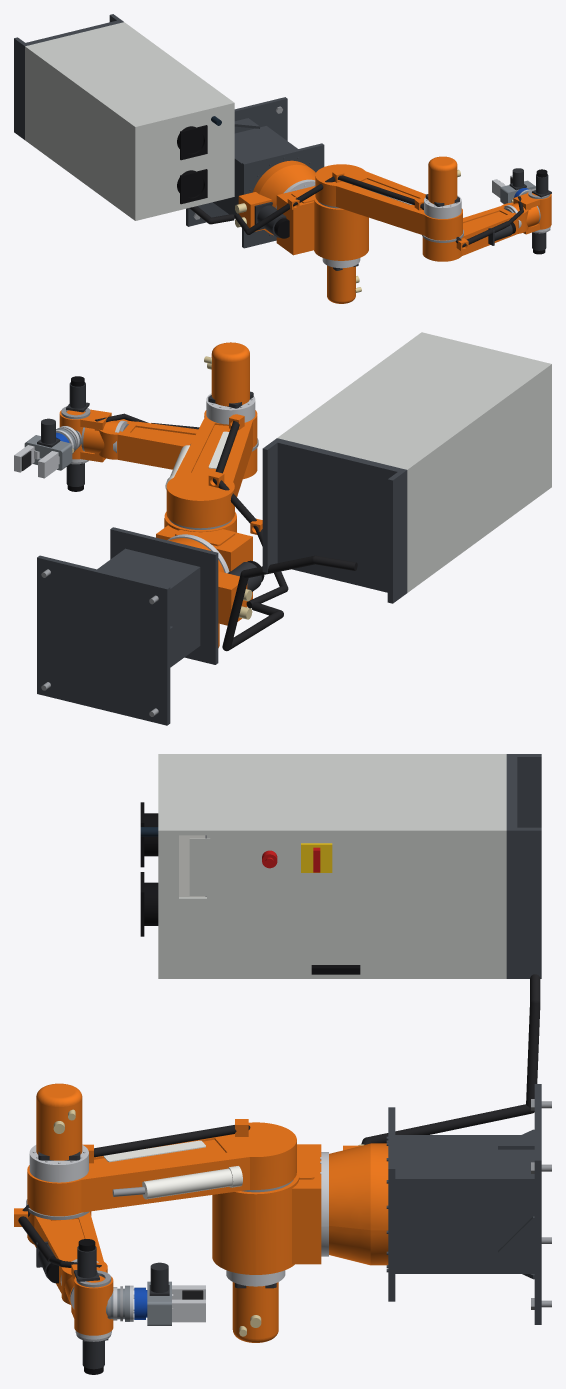
The model's file is robot-arm-6ax.glb.
The picture shows the model from 3 angles, top to bottom: view 1: azimuth 30°, elevation 25°; view 2: azimuth 150°, elevation 25°; view 3: azimuth 270°, elevation 25°; orthographic projection. The views are drawn at different scales.
Parts seen in each view (by area): view 1: Cabinet Enclosure, Lower Arm Casting, J1 Turret Casting, Upper Arm Casting, Pedestal Column Body 1, Pedestal Top Plate, J1 Base Housing, Pedestal Base Plate, Arm Harness Bundle, Cabinet Plinth, J3 Motor Cover, J2 Motor Cover (+5 smaller); view 2: Cabinet Enclosure, Pedestal Base Plate, Cabinet Plinth, Lower Arm Casting, Pedestal Column Body 1, Pedestal Top Plate, Upper Arm Casting, Umbilical Cable, J3 Motor Cover, J1 Turret Casting, Arm Harness Bundle, J1 Base Housing (+6 smaller); view 3: Cabinet Door, Cabinet Enclosure, Pedestal Column Body 1, Lower Arm Casting, J1 Turret Casting, Cabinet Plinth, J1 Base Housing, J3 Motor Cover, Umbilical Cable, Upper Arm Casting, J2 Motor Cover, J5 Pitch Housing (+14 smaller).
Part boxes in pixels (bbox=[...]): Cabinet Enclosure: bbox=[25, 22, 234, 220]; Lower Arm Casting: bbox=[315, 164, 462, 240]; J1 Turret Casting: bbox=[276, 186, 368, 260]; Upper Arm Casting: bbox=[422, 202, 528, 261]; Pedestal Column Body 1: bbox=[213, 126, 297, 218]; Pedestal Top Plate: bbox=[242, 143, 324, 248]; J1 Base Housing: bbox=[238, 160, 315, 235]; Pedestal Base Plate: bbox=[186, 97, 287, 226]; Arm Harness Bundle: bbox=[234, 175, 510, 247]; Cabinet Plinth: bbox=[14, 14, 123, 139]; J3 Motor Cover: bbox=[428, 156, 457, 205]; J2 Motor Cover: bbox=[327, 265, 355, 303]; Cabinet Enclosure: bbox=[277, 332, 551, 592]; Pedestal Base Plate: bbox=[37, 555, 170, 725]; Cabinet Plinth: bbox=[262, 438, 407, 603]; Lower Arm Casting: bbox=[166, 410, 257, 528]; Pedestal Column Body 1: bbox=[97, 548, 200, 667]; Pedestal Top Plate: bbox=[110, 527, 218, 664]; Upper Arm Casting: bbox=[99, 419, 257, 479]; Umbilical Cable: bbox=[222, 555, 357, 651]; J3 Motor Cover: bbox=[211, 342, 249, 406]; J1 Turret Casting: bbox=[156, 511, 252, 600]; Arm Harness Bundle: bbox=[151, 420, 288, 608]; J1 Base Housing: bbox=[168, 538, 247, 625]; Cabinet Door: bbox=[159, 831, 505, 977]; Cabinet Enclosure: bbox=[158, 754, 506, 978]; Pedestal Column Body 1: bbox=[395, 1135, 534, 1273]; Lower Arm Casting: bbox=[27, 1122, 296, 1216]; J1 Turret Casting: bbox=[212, 1144, 321, 1274]; Cabinet Plinth: bbox=[506, 754, 541, 978]; J1 Base Housing: bbox=[329, 1143, 388, 1265]; J3 Motor Cover: bbox=[36, 1083, 82, 1160]; Umbilical Cable: bbox=[361, 974, 540, 1144]; Upper Arm Casting: bbox=[27, 1211, 107, 1304]; J2 Motor Cover: bbox=[232, 1282, 278, 1342]; J5 Pitch Housing: bbox=[71, 1262, 113, 1335].
Bounding box in the file's own units: 2082 × 1263 × 1544.
